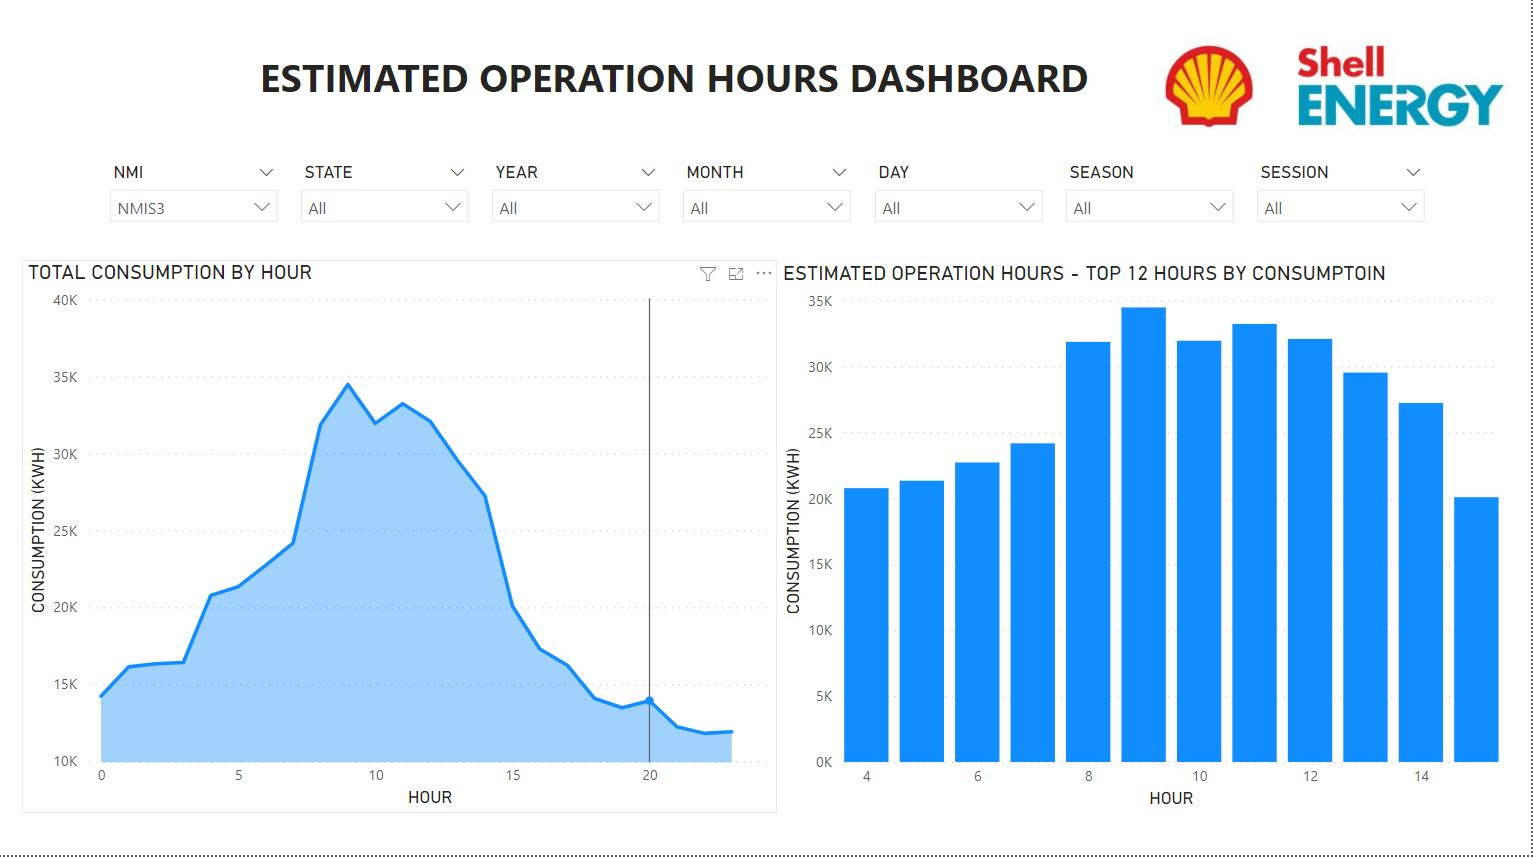

The dashboard page shown, as its layout file describes it:
{"tool":"powerbi","page":{"name":"Page 1","canvas":[1280,720],"ordinal":0},"visuals":[{"type":"image","box":[937.6,0,342.4,144.9],"z":0},{"type":"textbox","box":[214.4,43.4,731.7,57.6],"z":1000},{"type":"slicer","fields":{"Values":["NMI_Hourly_Consumption_Report.NMI"]},"box":[84.1,136.8,159.5,67.1],"z":2000},{"type":"slicer","fields":{"Values":["NMI_Hourly_Consumption_Report.STATE"]},"box":[243.6,136.8,159.5,67.1],"z":3000},{"type":"slicer","fields":{"Values":["NMI_Hourly_Consumption_Report.YEAR"]},"box":[403.1,136.8,159.5,67.1],"z":4000},{"type":"slicer","fields":{"Values":["NMI_Hourly_Consumption_Report.MONTH"]},"box":[562.6,136.8,159.5,67.1],"z":5000},{"type":"slicer","fields":{"Values":["NMI_Hourly_Consumption_Report.DAY"]},"box":[722.2,136.8,159.5,67.1],"z":6000},{"type":"slicer","fields":{"Values":["NMI_Hourly_Consumption_Report.SEASON"]},"box":[881.7,136.8,159.5,67.1],"z":7000},{"type":"slicer","fields":{"Values":["NMI_Hourly_Consumption_Report.SESSION"]},"box":[1041.2,136.8,159.5,67.1],"z":8000},{"type":"stackedAreaChart","title":"TOTAL CONSUMPTION BY HOUR","fields":{"Category":["NMI_Hourly_Consumption_Report.HOUR"],"Y":["Sum(NMI_Hourly_Consumption_Report.TOTAL_CONSUMPTION)"]},"box":[20.9,223.6,629.9,461.4],"z":9000},{"type":"columnChart","title":"ESTIMATED OPERATION HOURS - TOP 12 HOURS BY CONSUMPTOIN","fields":{"Category":["NMI_Hourly_Consumption_Report.HOUR"],"Y":["Sum(NMI_Hourly_Consumption_Report.TOTAL_CONSUMPTION)"]},"box":[650.8,224.4,606.5,460.5],"z":10000}]}

Visuals, with their boxes in screenshot pixels (x1, y1, x2, y2), scaled from the page's 1280x720 canvas onto the 1533x858 screenshot:
image: select_region(1123, 0, 1532, 173)
textbox: select_region(257, 52, 1133, 120)
slicer - NMI_Hourly_Consumption_Report.NMI: select_region(101, 163, 292, 243)
slicer - NMI_Hourly_Consumption_Report.STATE: select_region(292, 163, 483, 243)
slicer - NMI_Hourly_Consumption_Report.YEAR: select_region(483, 163, 674, 243)
slicer - NMI_Hourly_Consumption_Report.MONTH: select_region(674, 163, 865, 243)
slicer - NMI_Hourly_Consumption_Report.DAY: select_region(865, 163, 1056, 243)
slicer - NMI_Hourly_Consumption_Report.SEASON: select_region(1056, 163, 1247, 243)
slicer - NMI_Hourly_Consumption_Report.SESSION: select_region(1247, 163, 1438, 243)
"TOTAL CONSUMPTION BY HOUR" stackedAreaChart: select_region(25, 266, 779, 816)
"ESTIMATED OPERATION HOURS - TOP 12 HOURS BY CONSUMPTOIN" columnChart: select_region(779, 267, 1506, 816)
